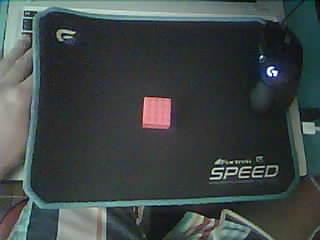lego: (142, 96, 171, 128)
